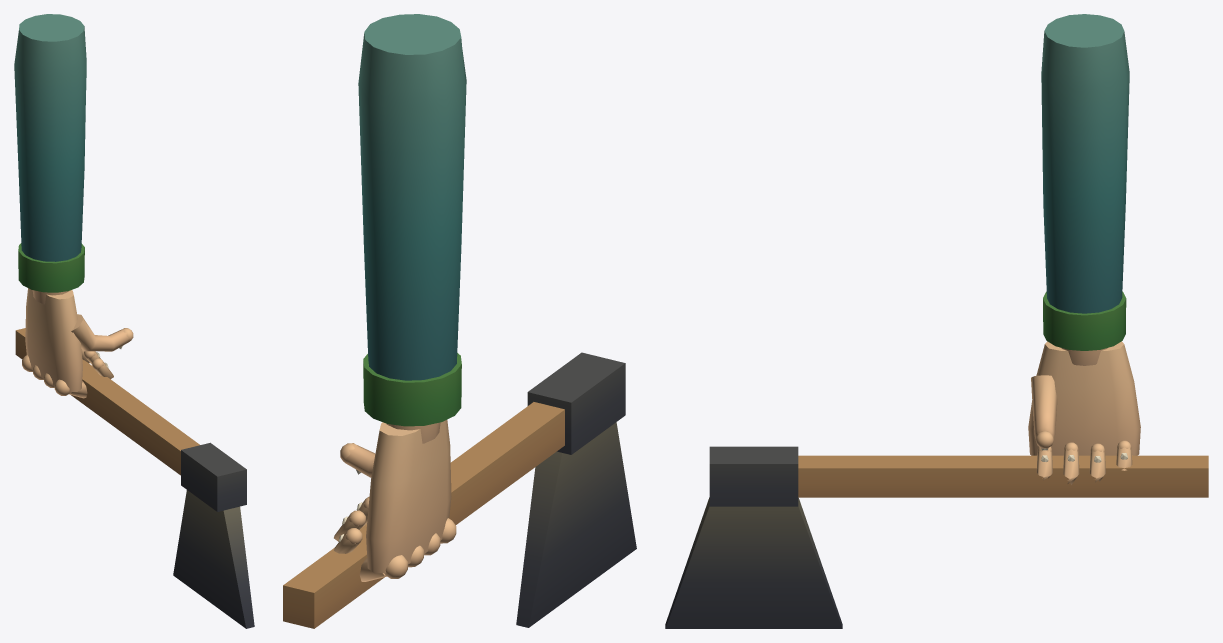
Rendered from merchant_esme_fore_r.glb.
3 renders of one model, left to right at view 1: azimuth 30°, elevation 25°; view 2: azimuth 150°, elevation 25°; view 3: azimuth 270°, elevation 25°, orthographic. The views are drawn at different scales.
Visible parts, largest first — view 1: merchant_esme_fore_r; view 2: merchant_esme_fore_r; view 3: merchant_esme_fore_r.
Part boxes in pixels (x1,y1,x2,y2): merchant_esme_fore_r: [14, 14, 254, 628]; merchant_esme_fore_r: [283, 14, 636, 628]; merchant_esme_fore_r: [665, 14, 1208, 628].
Size of the model in its own units: 0.3632 by 1.74 by 1.48.
1 material, 1 textured.
